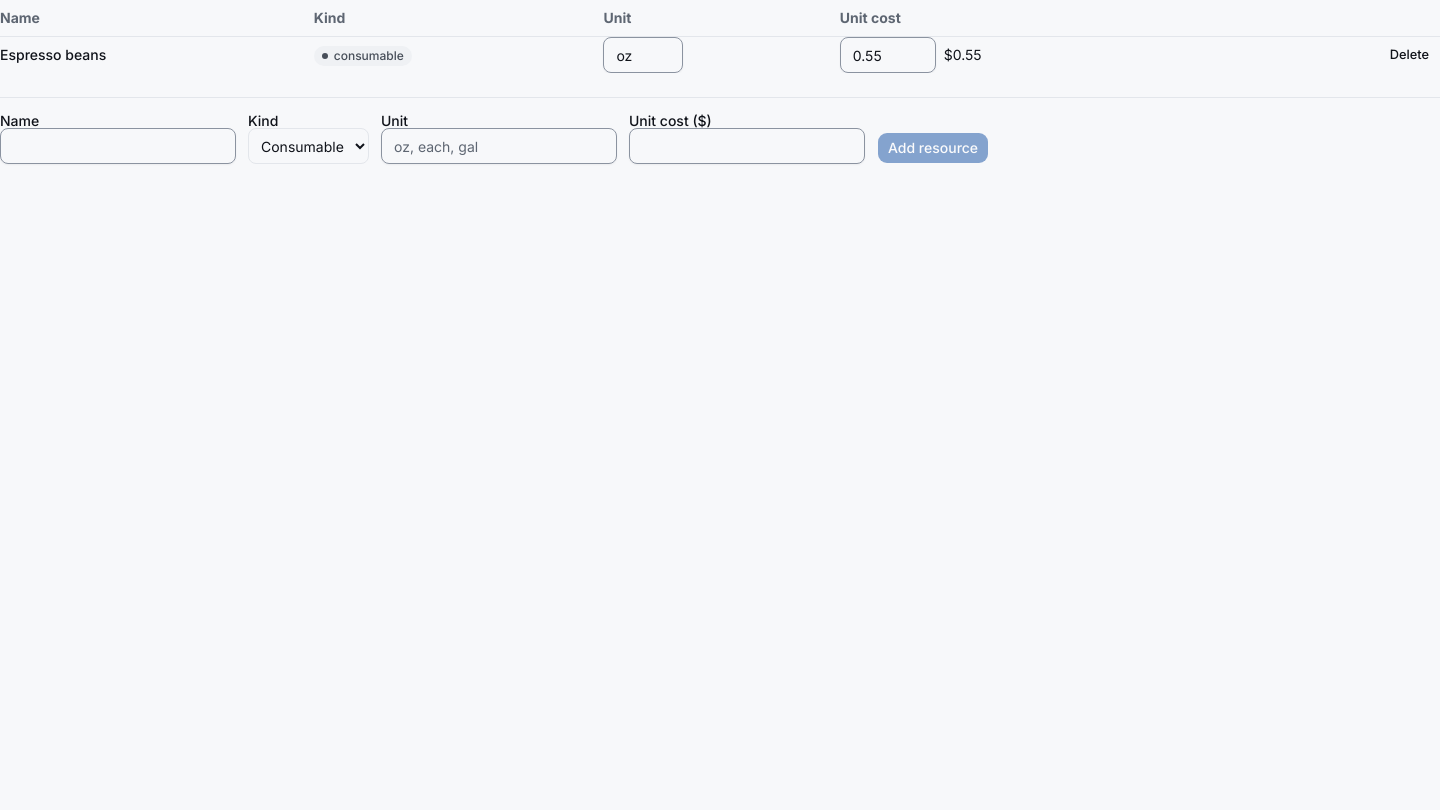
Test: ResourcesTab › confirming the delete dialog deletes the resource
The width and height of the screenshot is (1440, 810).
What coordinates should you click on to do the following:
click the button with aria-label "Delete Espresso beans"
I would click on:
 (1409, 55)
Its box is [1379, 41, 1439, 69].
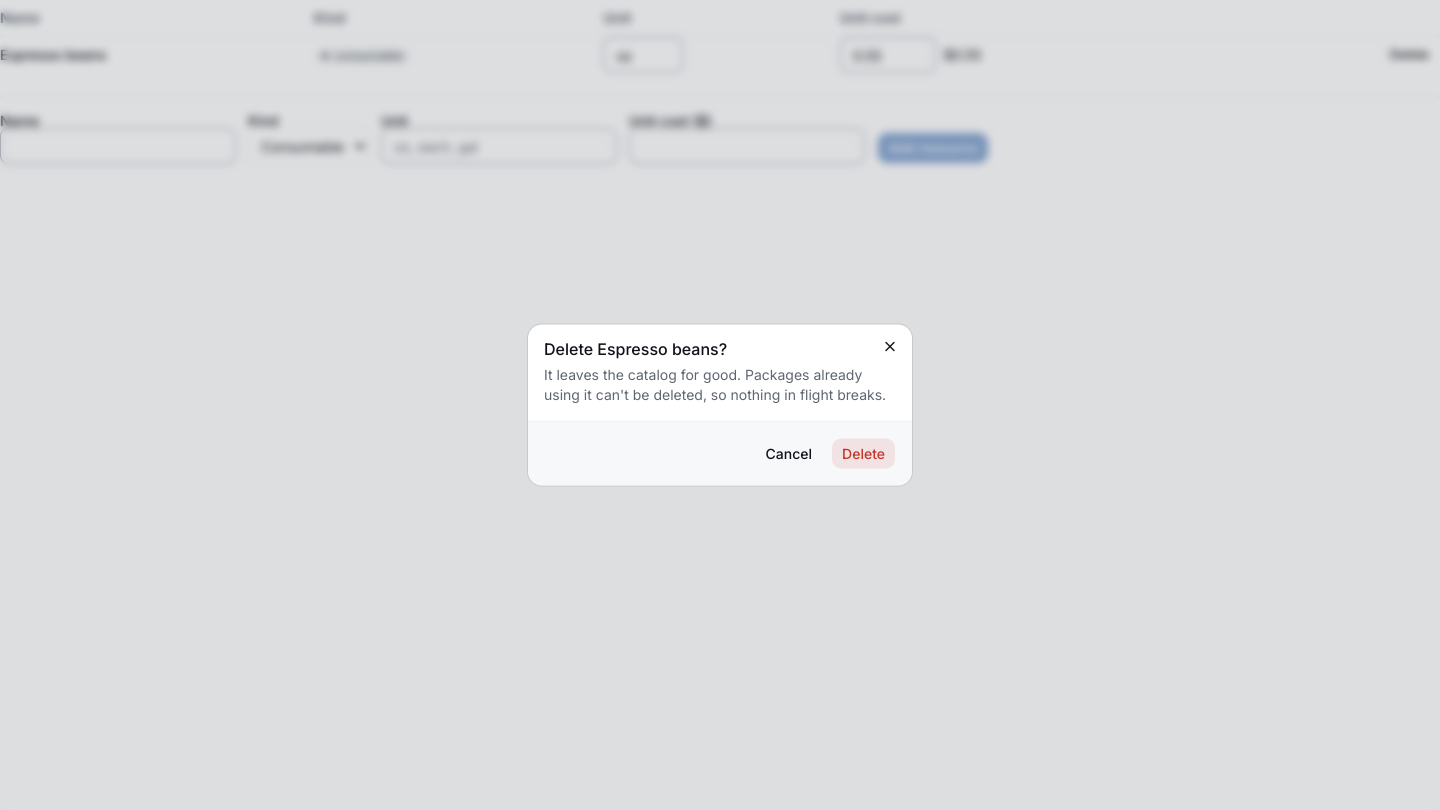
What coordinates should you click on to do the following:
click the button "Delete"
I would click on:
 (864, 454)
Its box is [831, 438, 896, 470].
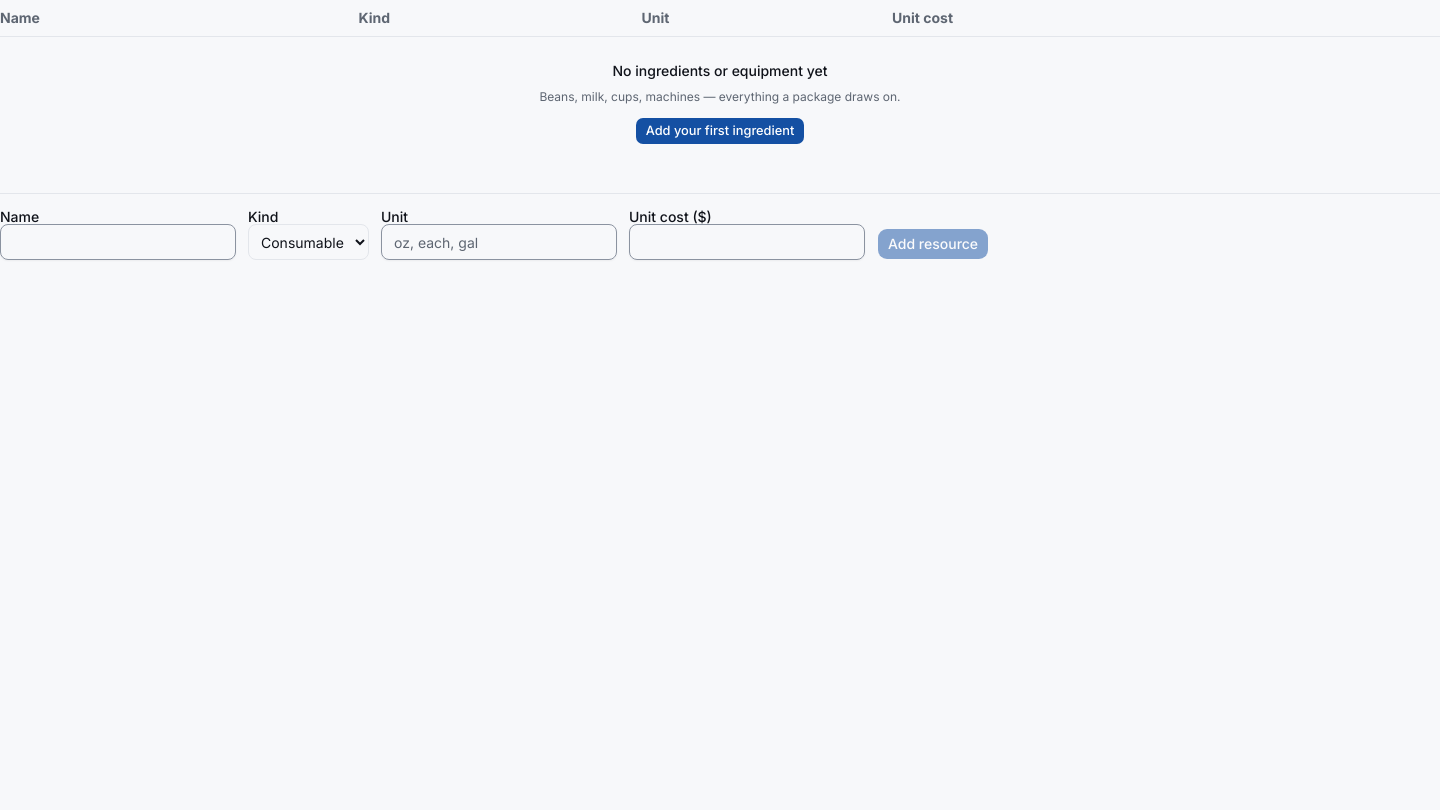
Check: the text "Espresso beans" is gone
